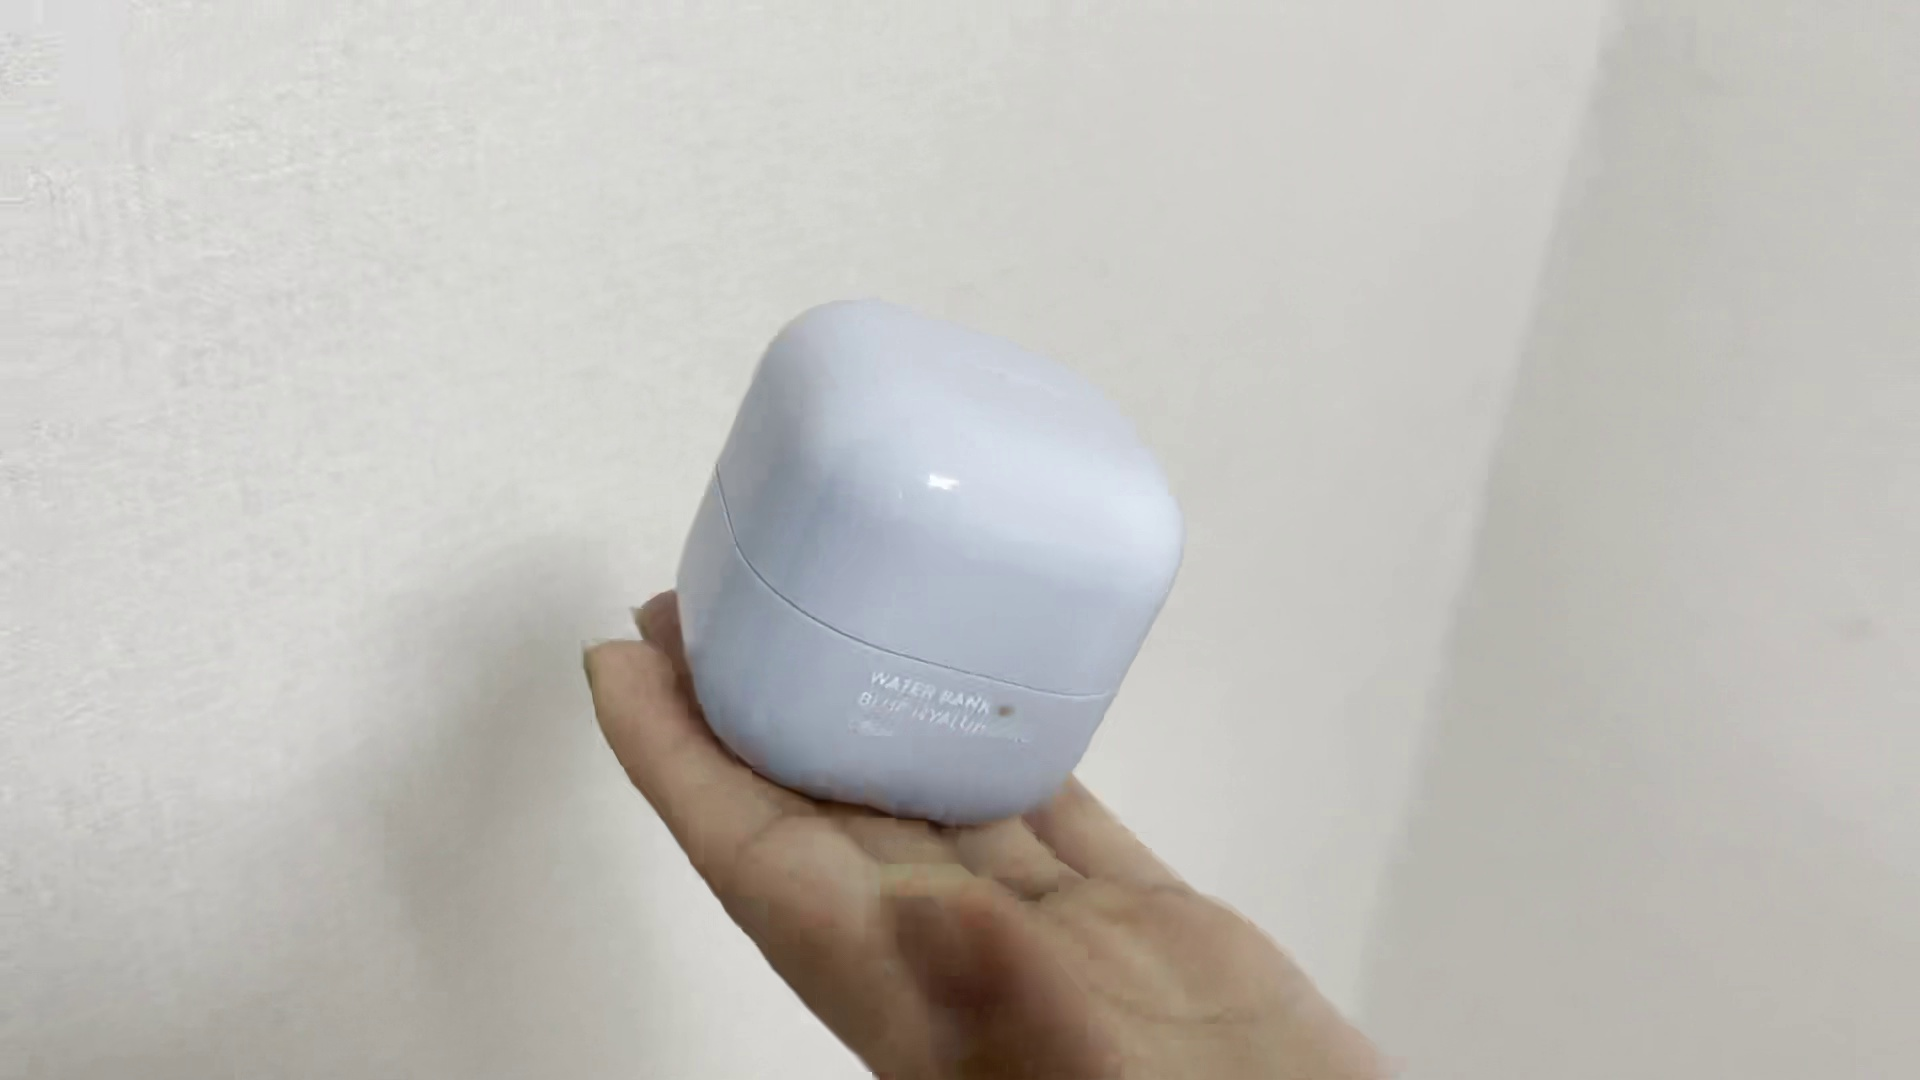cream: (676, 306, 1185, 825)
